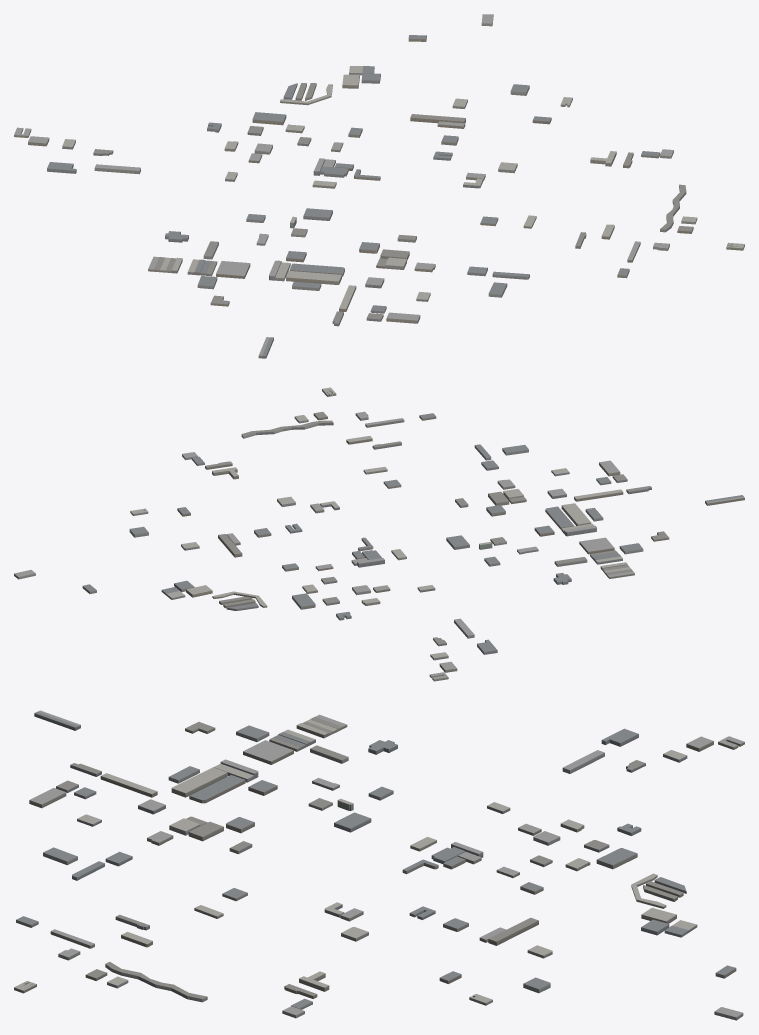
Rendered from bld_19_15.fbx.
3 views of the same model, one above another, from view 1: azimuth 30°, elevation 25°; view 2: azimuth 150°, elevation 25°; view 3: azimuth 270°, elevation 25° (orthographic). The views are drawn at different scales.
Visible parts, largest first — view 1: bld_19_15_LOD0; view 2: bld_19_15_LOD0; view 3: bld_19_15_LOD0.
Boxes of the visible parts, x1,y1,x2,y2 form: bld_19_15_LOD0: [14, 14, 744, 358]; bld_19_15_LOD0: [14, 387, 744, 681]; bld_19_15_LOD0: [14, 710, 744, 1020].
Size of what is drawn, in the model's own units: 2050 by 20.06 by 2062.
